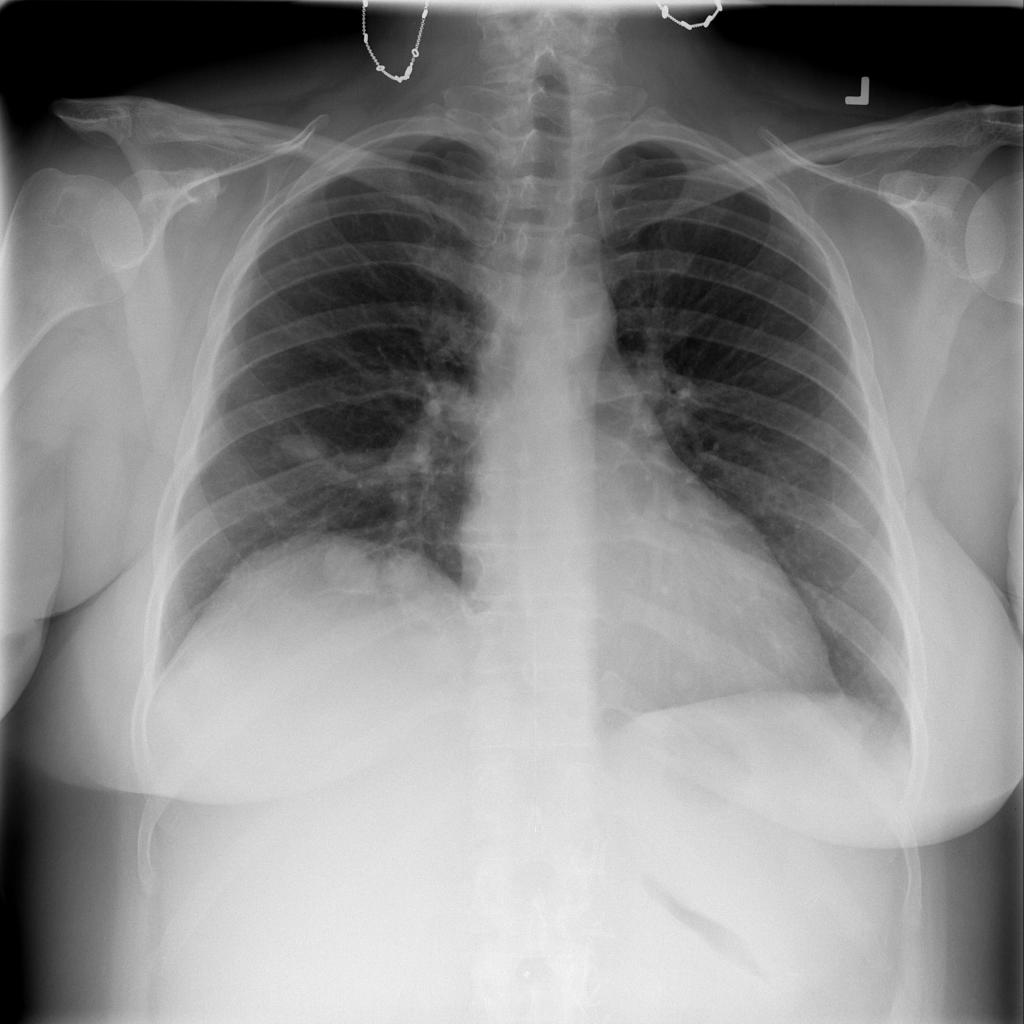nodule: (305, 534, 387, 608), (258, 417, 343, 478), (659, 652, 709, 703)
